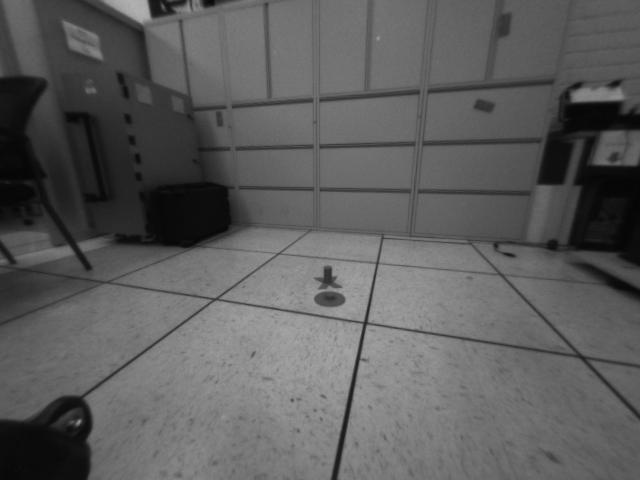X: (313, 265, 341, 288)
